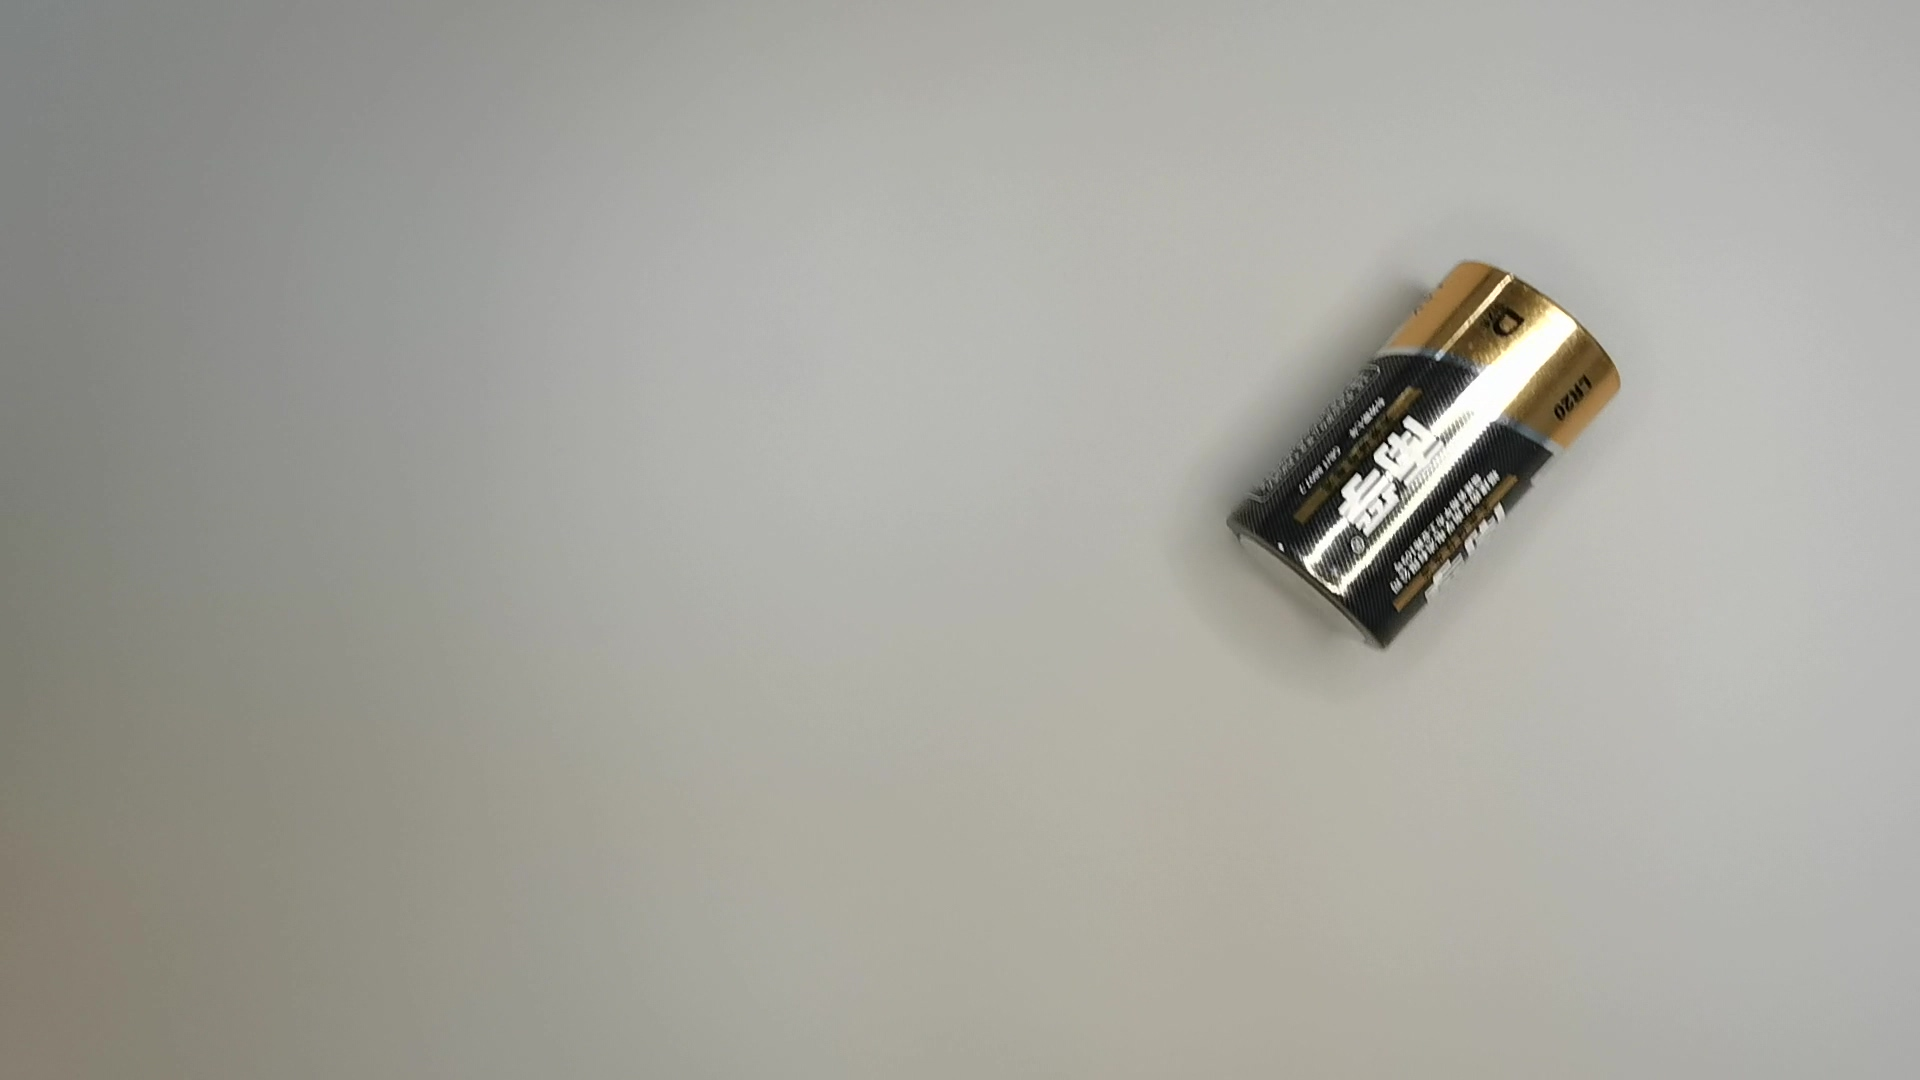battery: (1222, 251, 1630, 658)
